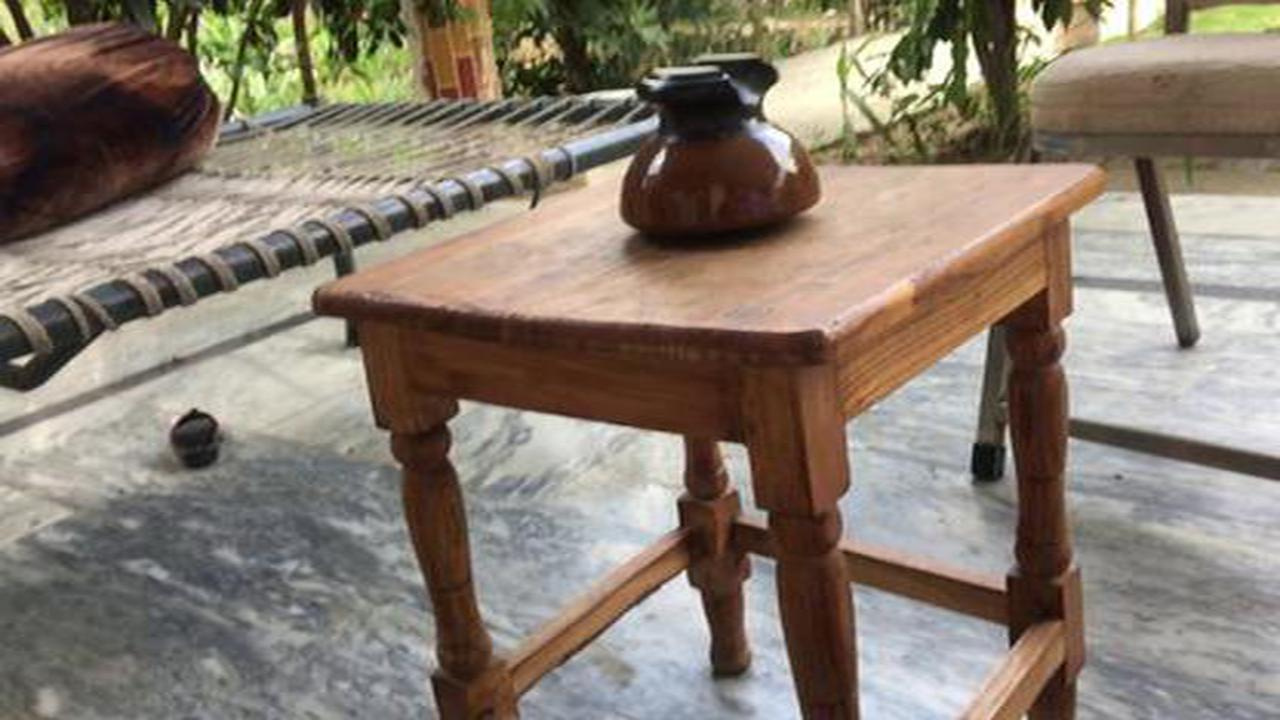insulator_pin: (601, 47, 844, 258)
